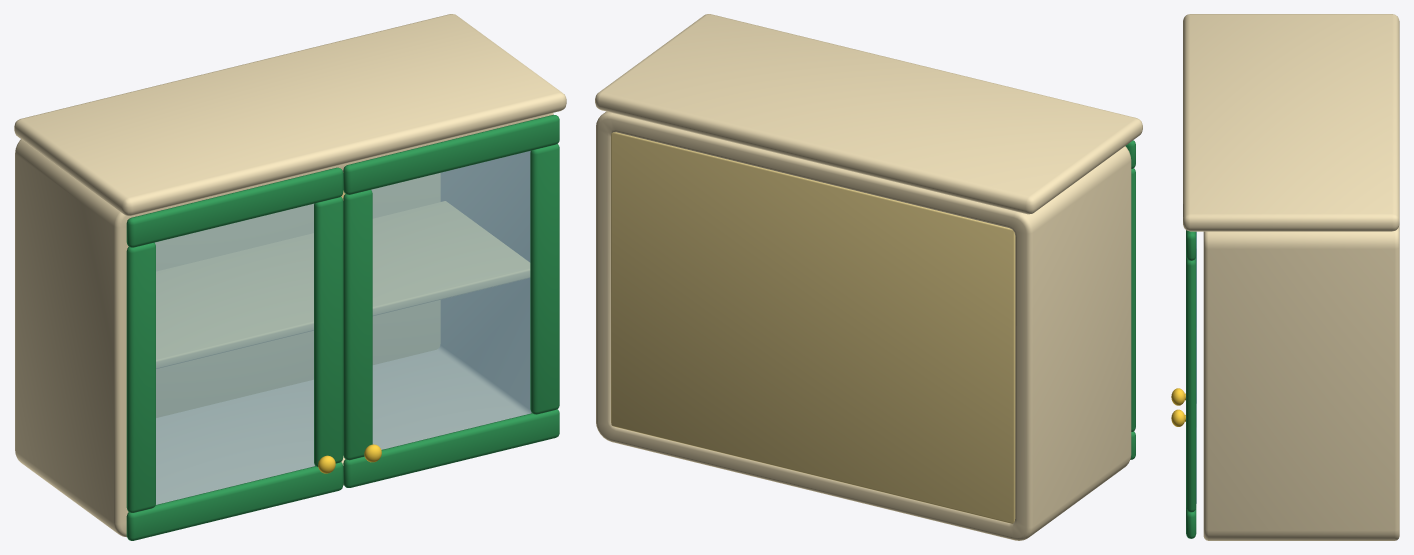
File: armario_parede_vidro_creme.glb
3 views of the same model, side by side, from view 1: azimuth 30°, elevation 25°; view 2: azimuth 150°, elevation 25°; view 3: azimuth 270°, elevation 25° (orthographic). The views are drawn at different scales.
Visible parts, largest first — view 1: armario_parede_vidro_creme, porta_1, porta_2; view 2: armario_parede_vidro_creme, porta_1; view 3: armario_parede_vidro_creme, porta_2, porta_1.
Boxes of the visible parts, x1=… form: armario_parede_vidro_creme: x1=14, y1=14, x2=566, y2=537; porta_1: x1=126, y1=167, x2=343, y2=540; porta_2: x1=343, y1=115, x2=559, y2=487; armario_parede_vidro_creme: x1=595, y1=14, x2=1142, y2=540; porta_1: x1=1125, y1=140, x2=1135, y2=459; armario_parede_vidro_creme: x1=1183, y1=14, x2=1399, y2=540; porta_2: x1=1171, y1=230, x2=1196, y2=538; porta_1: x1=1171, y1=232, x2=1196, y2=405.
Size of the model in its own units: 0.798 by 0.6 by 0.375.
2 materials, 1 textured.
